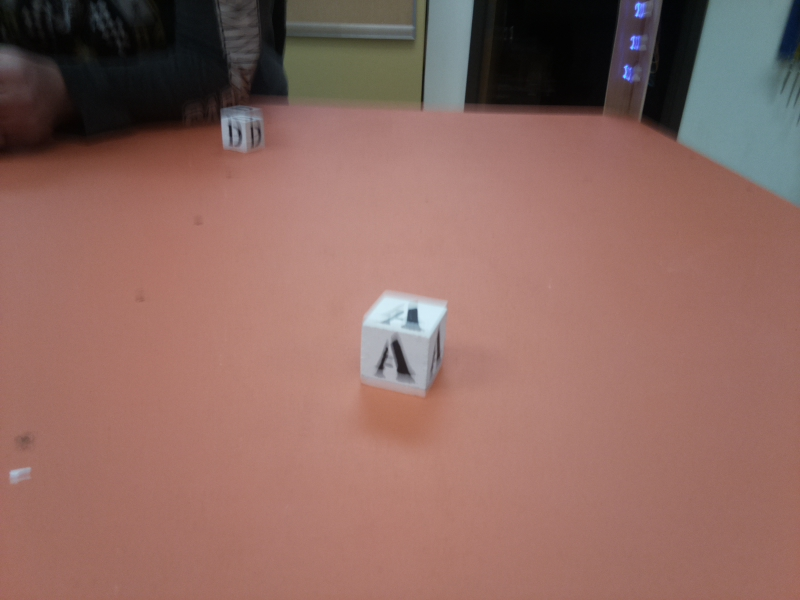blockA: (359, 292, 447, 395)
blockD: (222, 107, 267, 155)
corner: (599, 1, 661, 124)
